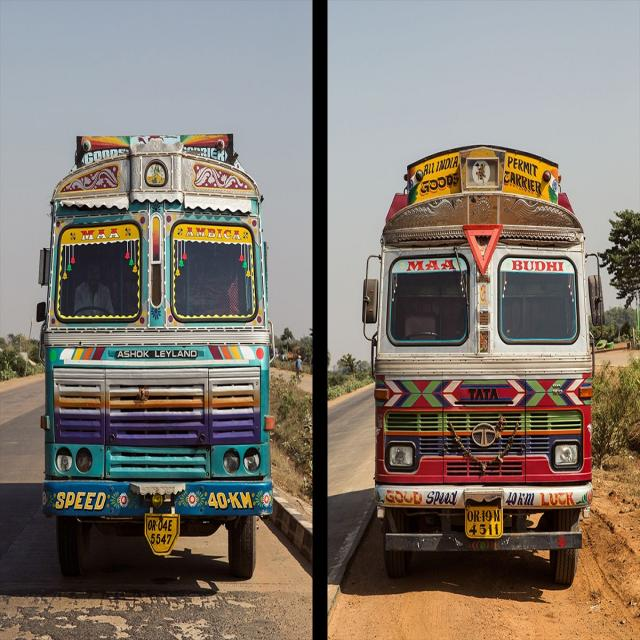Truck: (38, 139, 272, 575), (366, 156, 594, 587)
